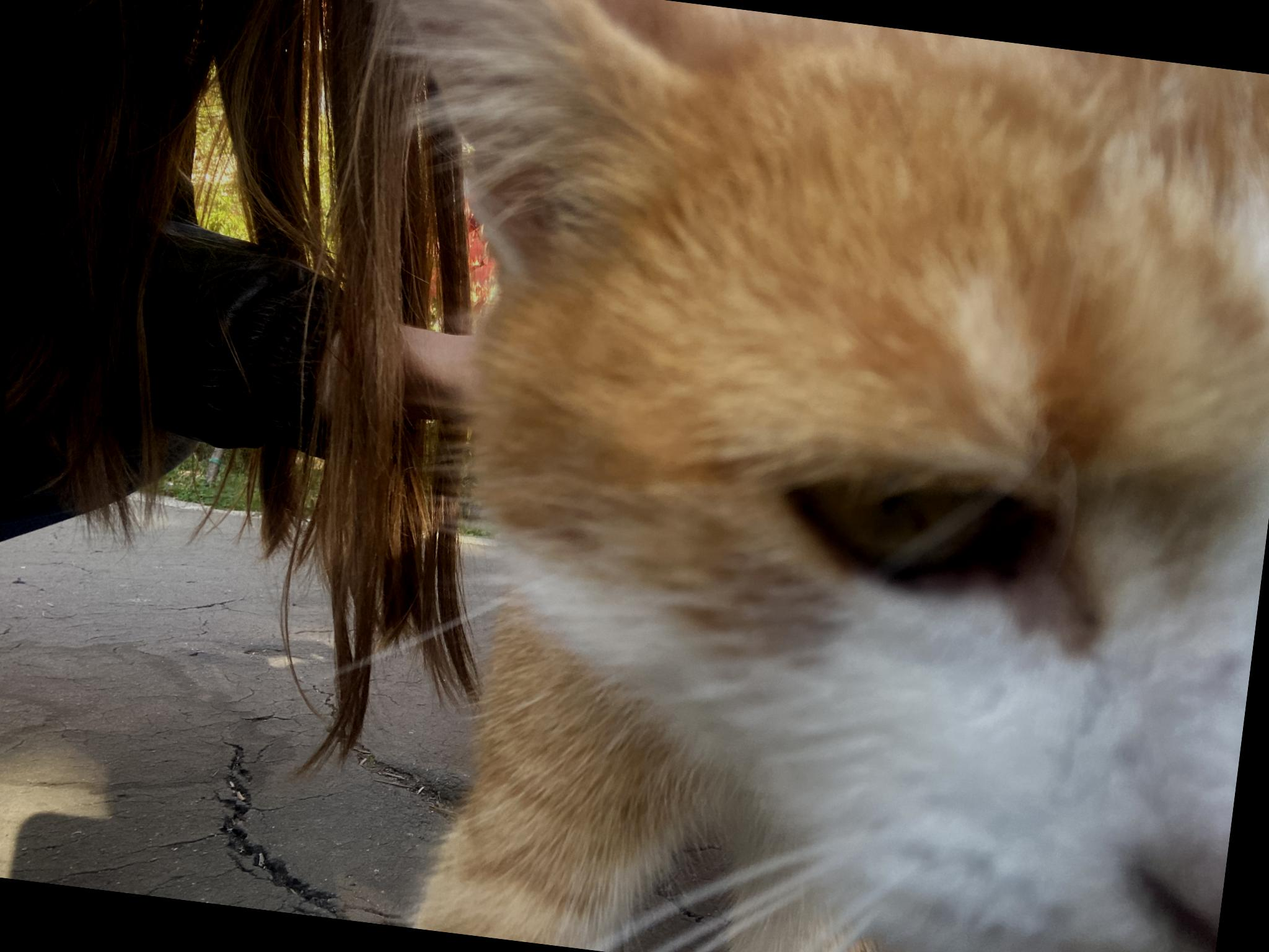macka: (261, 0, 1269, 952)
